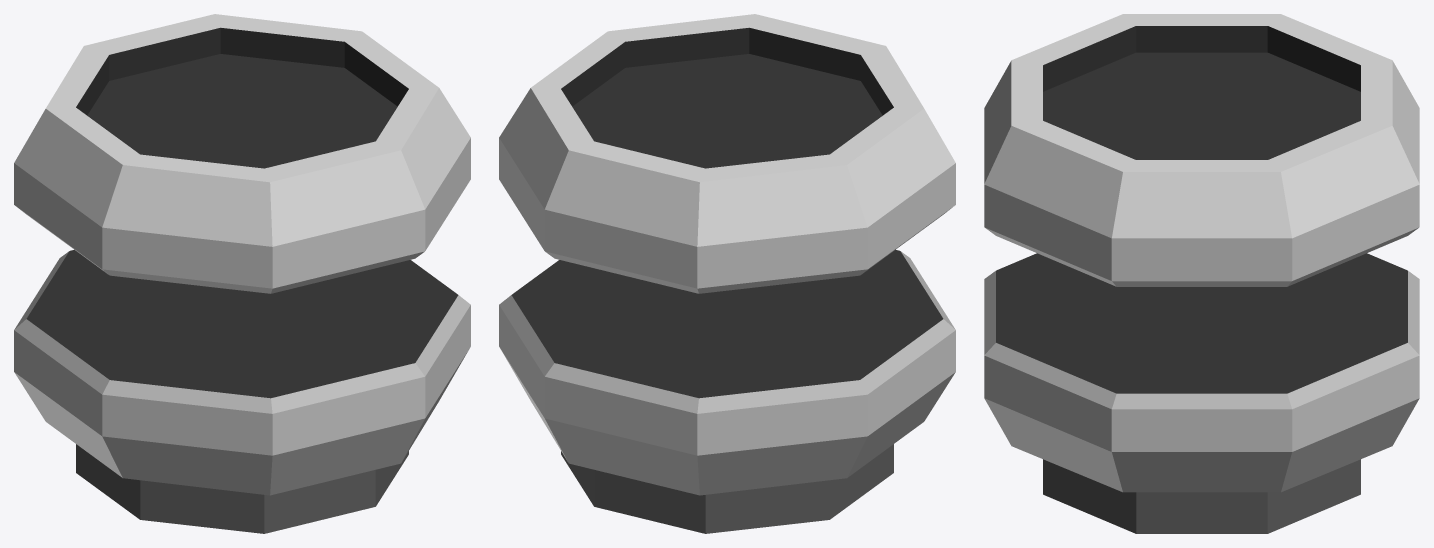
Rendered from Filter.glb.
The picture shows the model from 3 angles, left to right: view 1: azimuth 30°, elevation 25°; view 2: azimuth 150°, elevation 25°; view 3: azimuth 270°, elevation 25°; orthographic projection. The views are drawn at different scales.
Visible parts, largest first — view 1: Filter_col; view 2: Filter_col; view 3: Filter_col.
Boxes of the visible parts, x1=… form: Filter_col: x1=14, y1=14, x2=470, y2=533; Filter_col: x1=499, y1=14, x2=955, y2=533; Filter_col: x1=984, y1=14, x2=1419, y2=533.
Size of the model in its own units: 1.85 by 1.75 by 1.85.
1 material, 1 textured.
